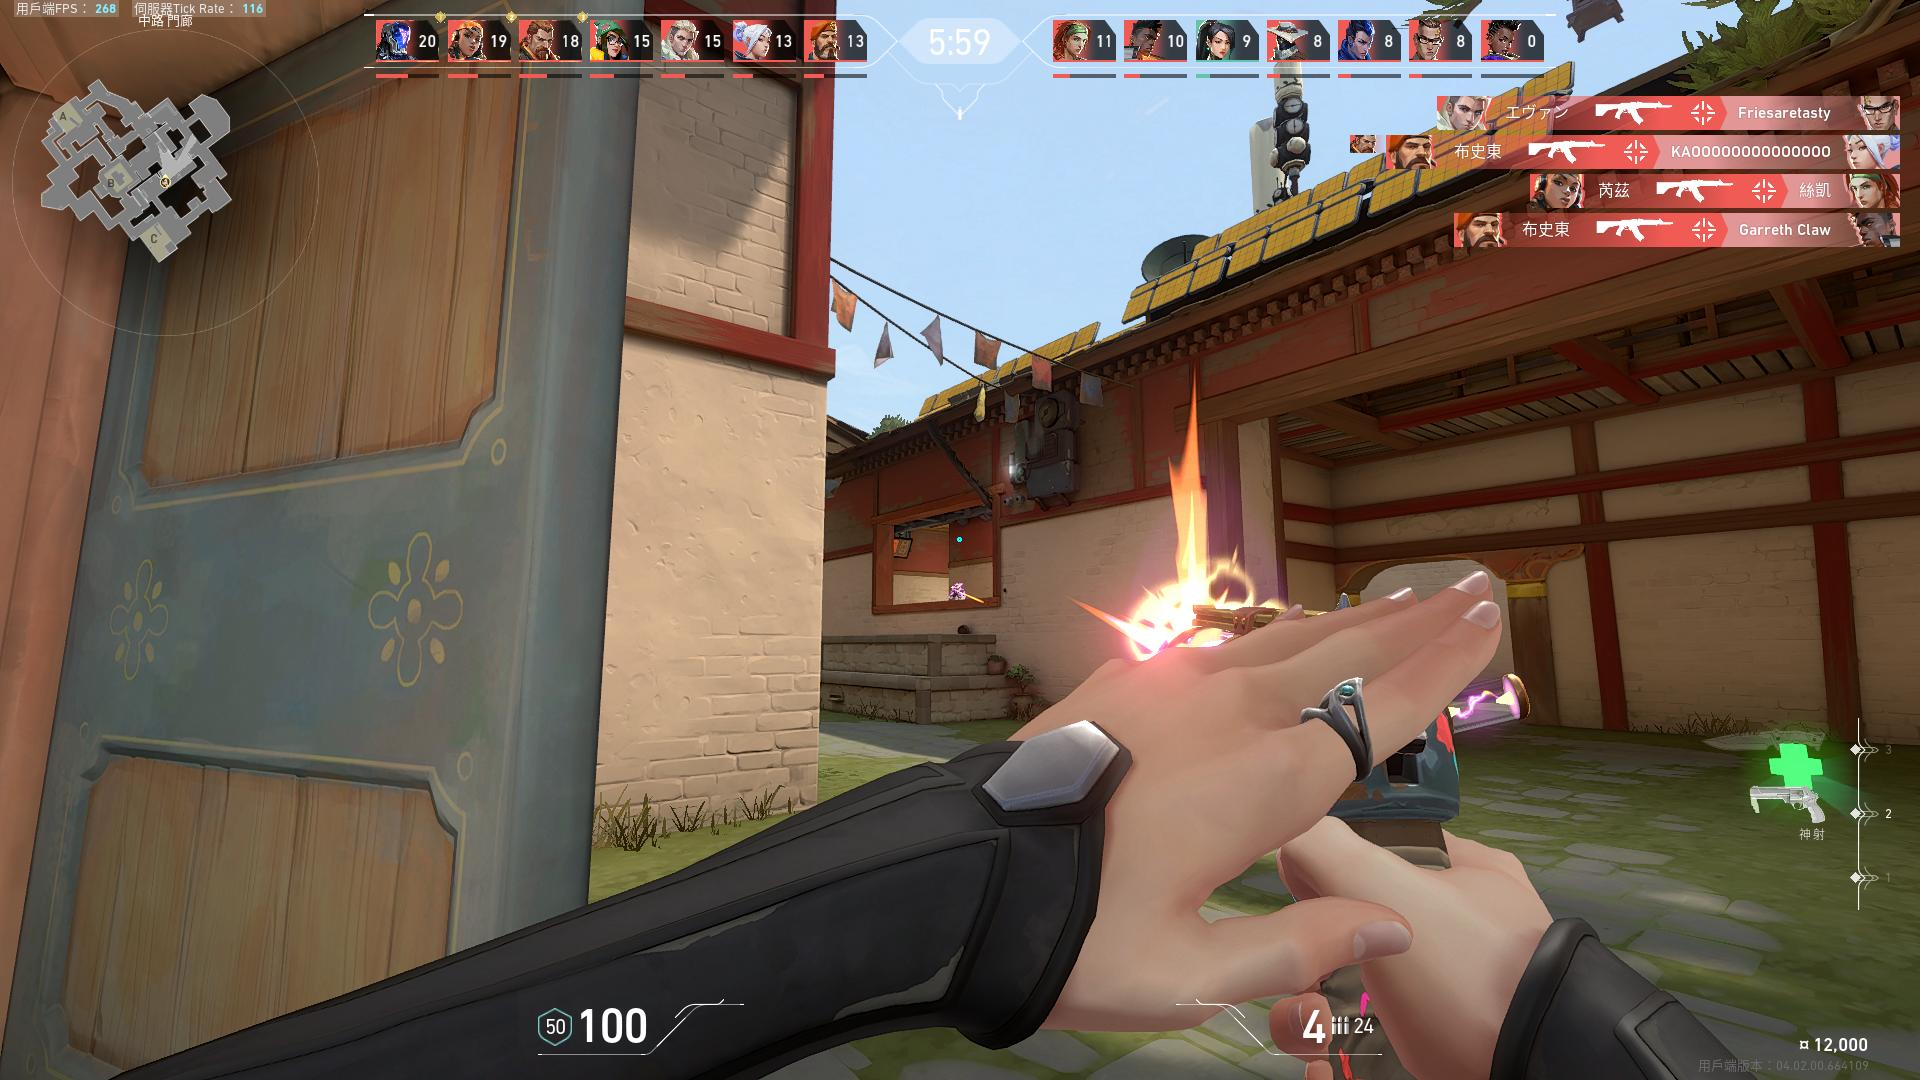enemyBody: (956, 592, 963, 599)
enemyHead: (955, 585, 960, 591)
